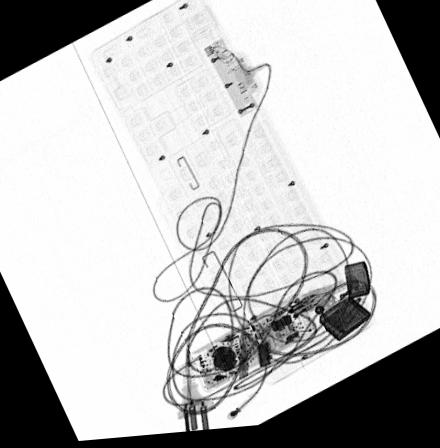Lighter: (313, 268, 371, 348)
